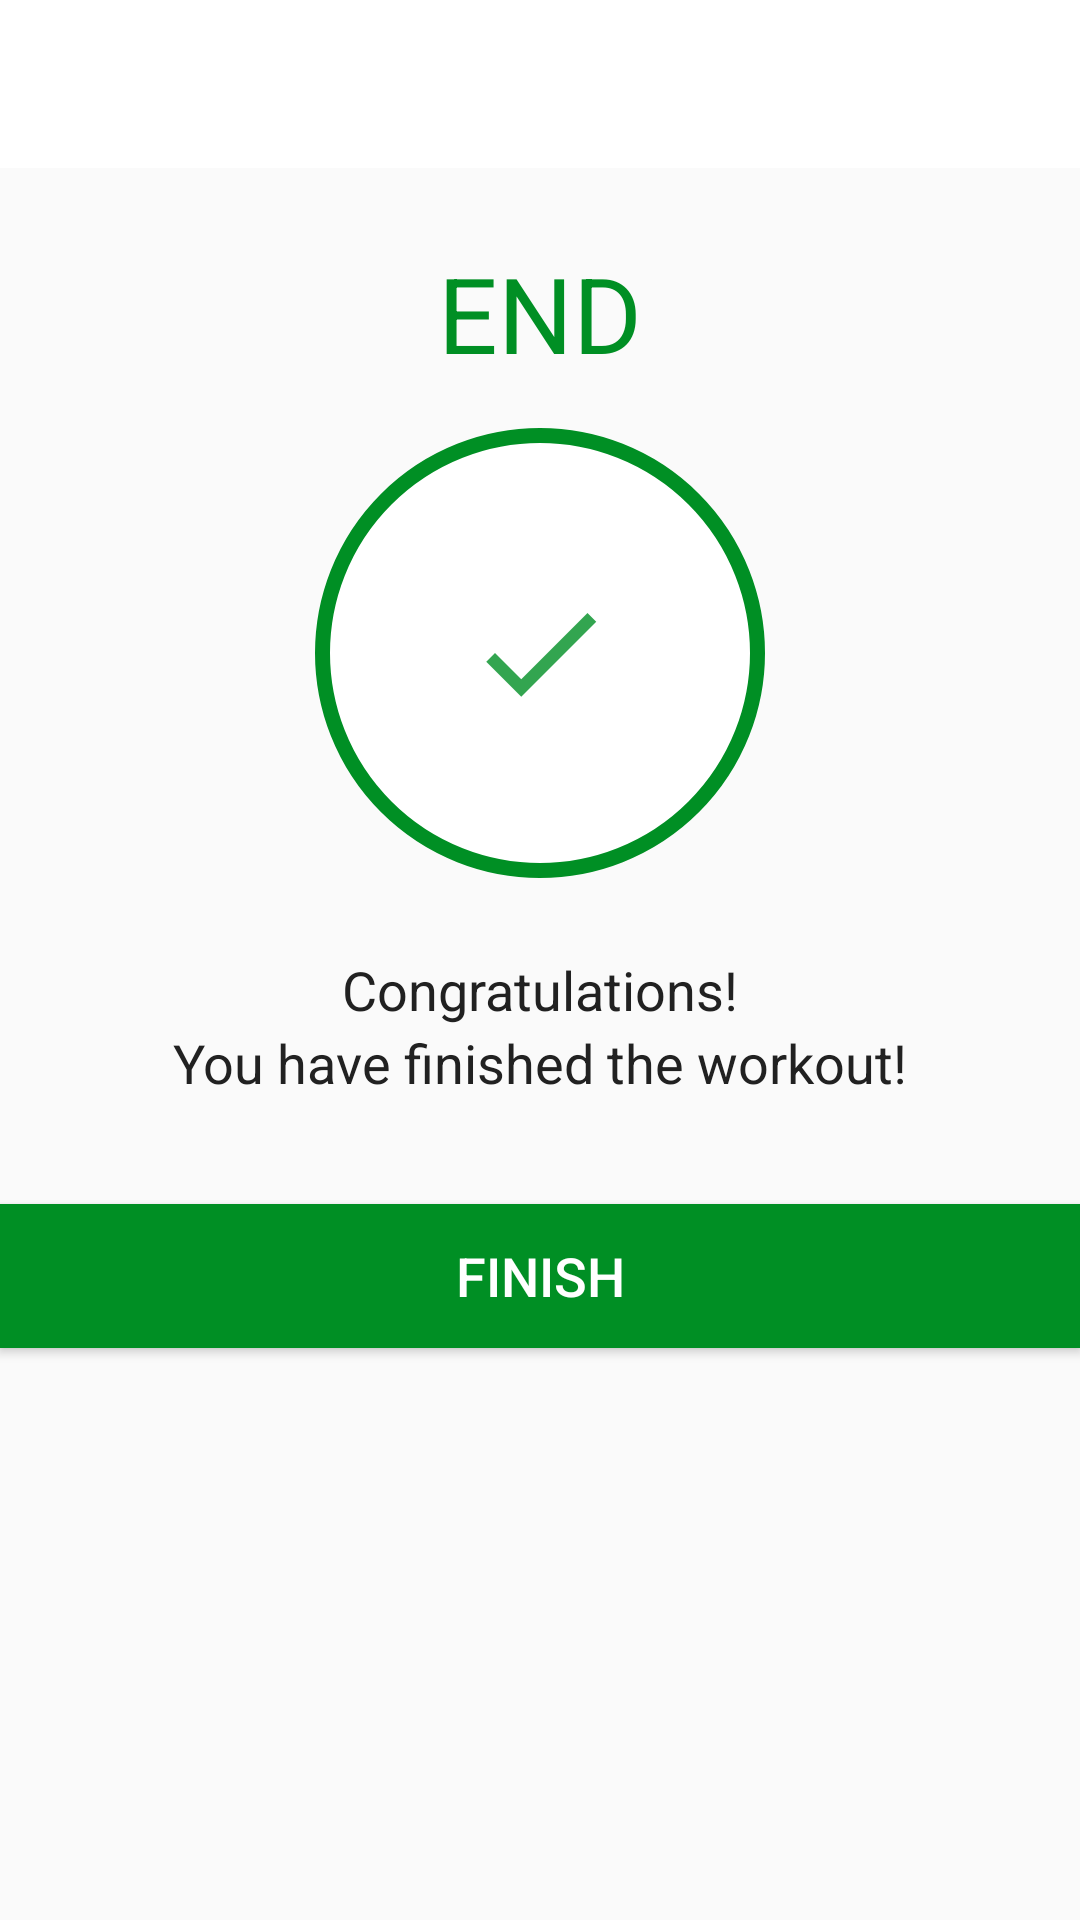

Icons on this 1080px×1920px Android screen, each with its box as rect(x1, y1, x2, y2):
done: rect(486, 613, 596, 697)
